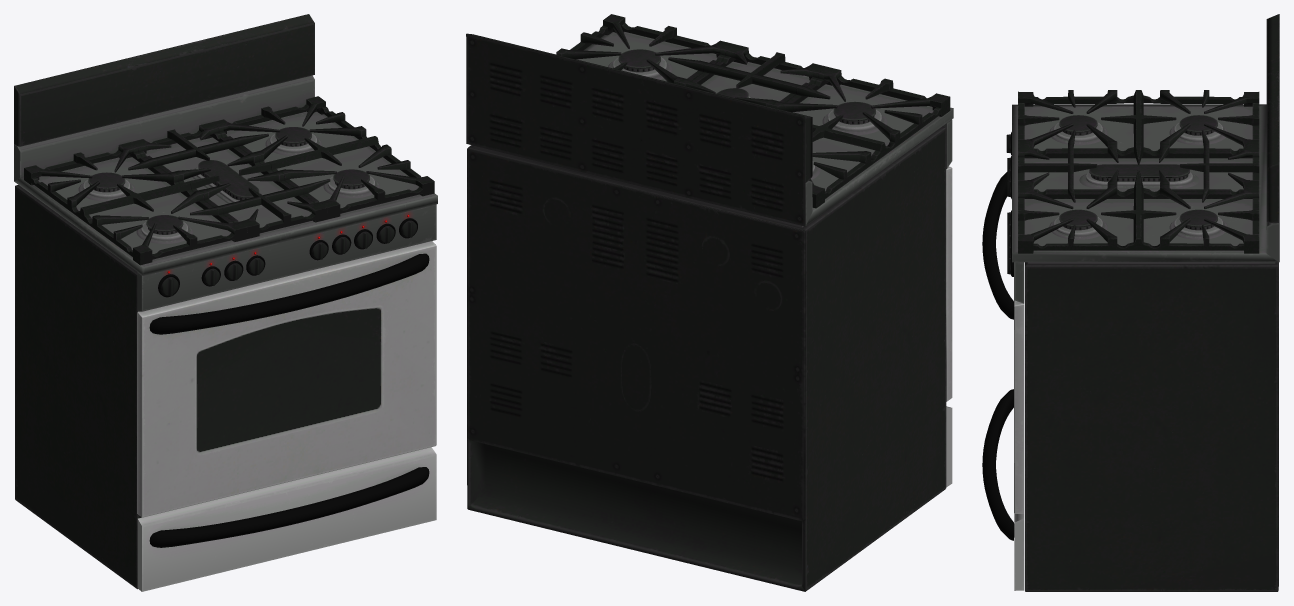
The model's file is Stove.fbx.
3 renders of one model, left to right at view 1: azimuth 30°, elevation 25°; view 2: azimuth 150°, elevation 25°; view 3: azimuth 270°, elevation 25°, orthographic. The views are drawn at different scales.
Parts seen in each view (by area): view 1: node_id48; view 2: node_id48; view 3: node_id48.
Part boxes in pixels (x1,y1,x2,y2): node_id48: [14, 14, 437, 591]; node_id48: [466, 14, 953, 591]; node_id48: [982, 14, 1279, 591].
Bounding box in the file's own units: 0.382 × 0.512 × 0.3212.
1 material, 1 textured.
